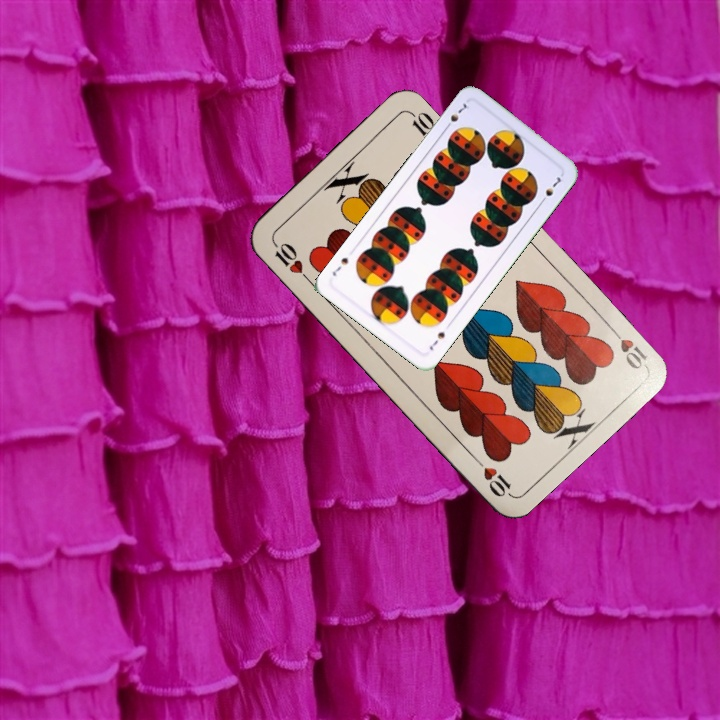H10: (605, 321, 651, 372), (268, 237, 313, 285)
S7: (441, 99, 472, 132), (425, 328, 448, 353)
